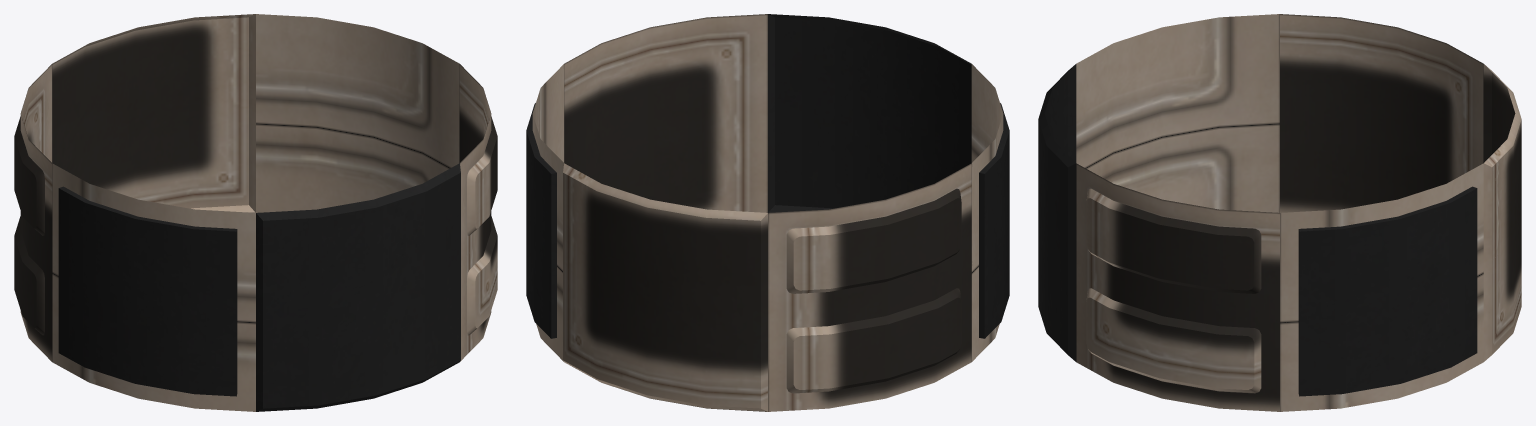
Rendered from cygnus_fuselage_s1p5_4.obj.
3 views of the same model, side by side, from view 1: azimuth 30°, elevation 25°; view 2: azimuth 150°, elevation 25°; view 3: azimuth 270°, elevation 25° (orthographic).
Visible parts, largest first — view 1: mesh1, radiator1; view 2: mesh1, radiator1; view 3: mesh1, radiator1.
Part boxes in pixels (bbox=[...]): mesh1: bbox=[14, 14, 497, 411]; radiator1: bbox=[52, 14, 460, 411]; mesh1: bbox=[526, 14, 1009, 411]; radiator1: bbox=[563, 14, 971, 411]; mesh1: bbox=[1076, 14, 1483, 411]; radiator1: bbox=[1038, 64, 1521, 361].
Size of the model in its own units: 1.9 by 0.875 by 1.93.
Materials: 1 (1 with a texture image).
